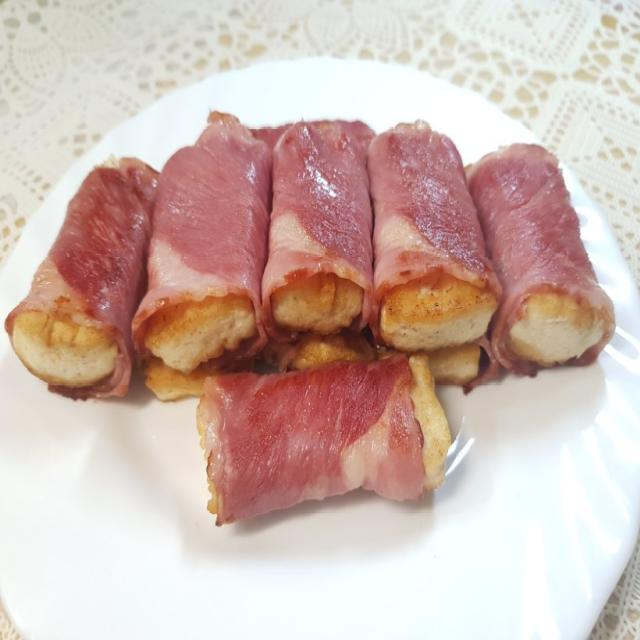bacon: (51, 160, 605, 322)
